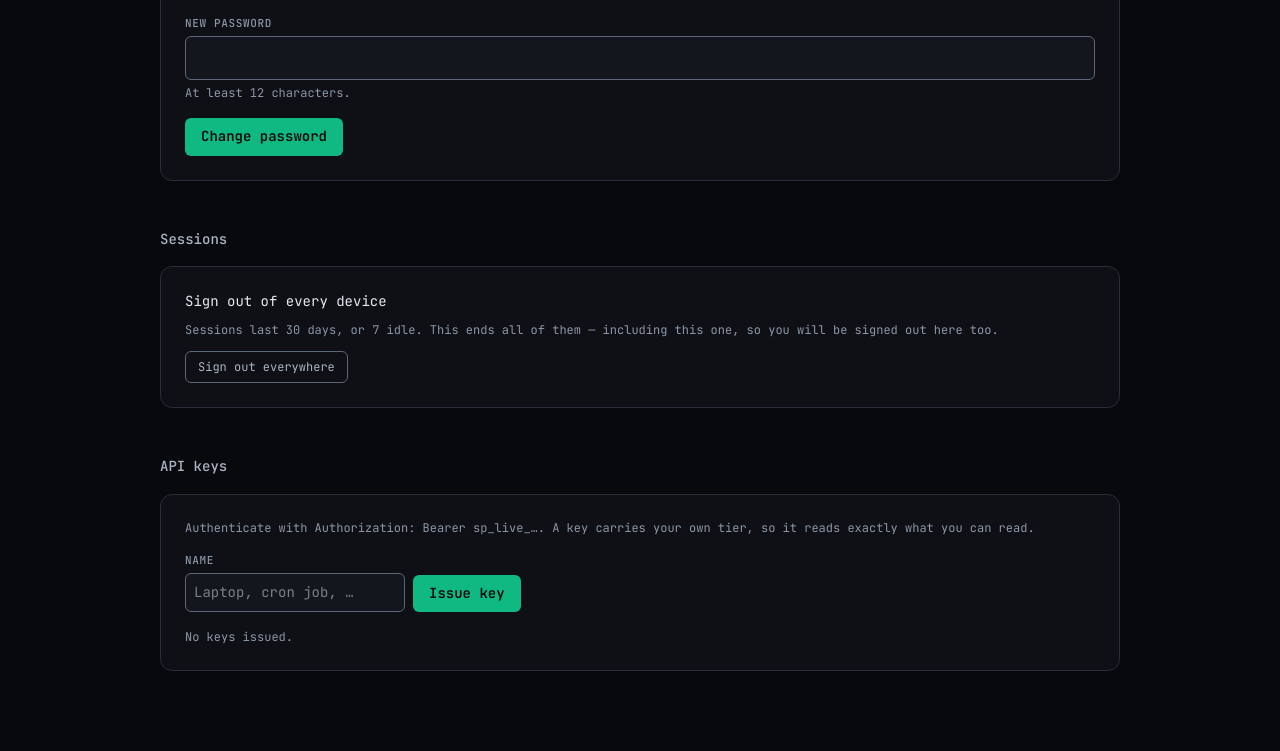
API keys › shows a new secret once and says it will not return
(page scrolled)
Type "Cron" into the field labelled "Name".
click(295, 592); type("Cron")  # box [185, 573, 405, 612]
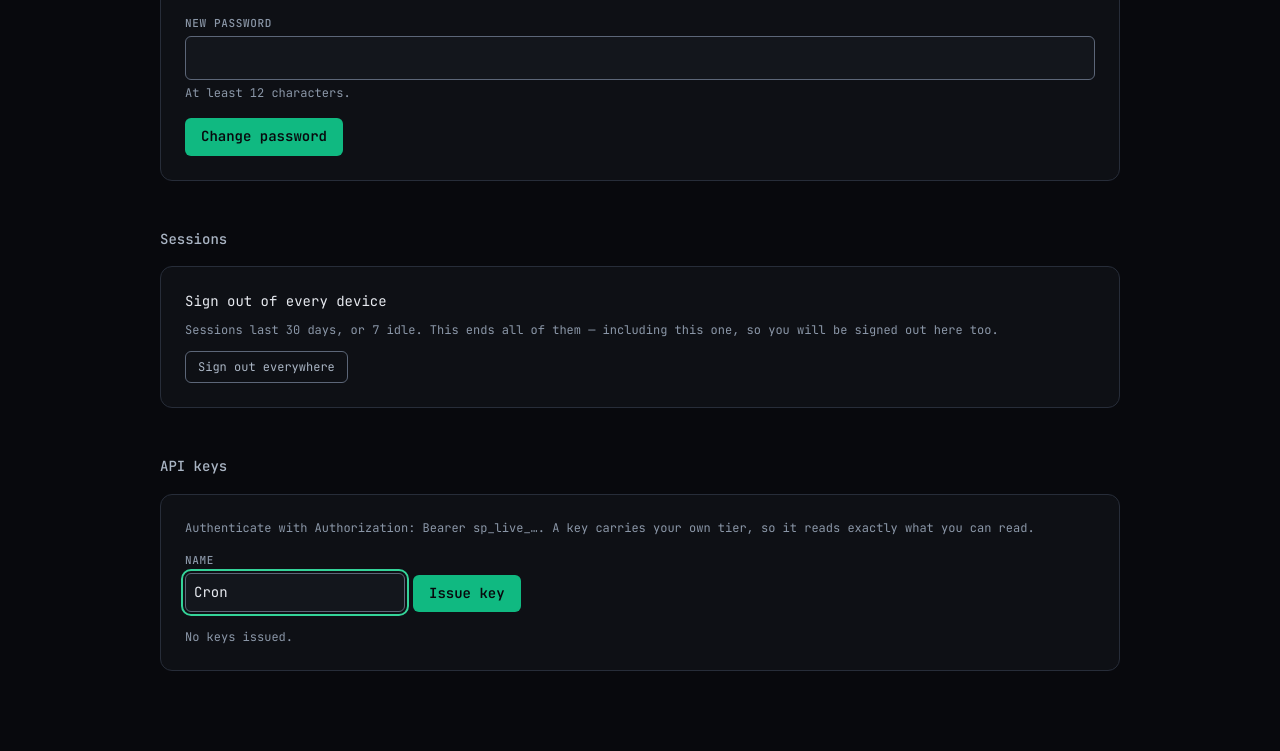
Click the button "Issue key".
click(467, 593)  # box [413, 575, 521, 612]
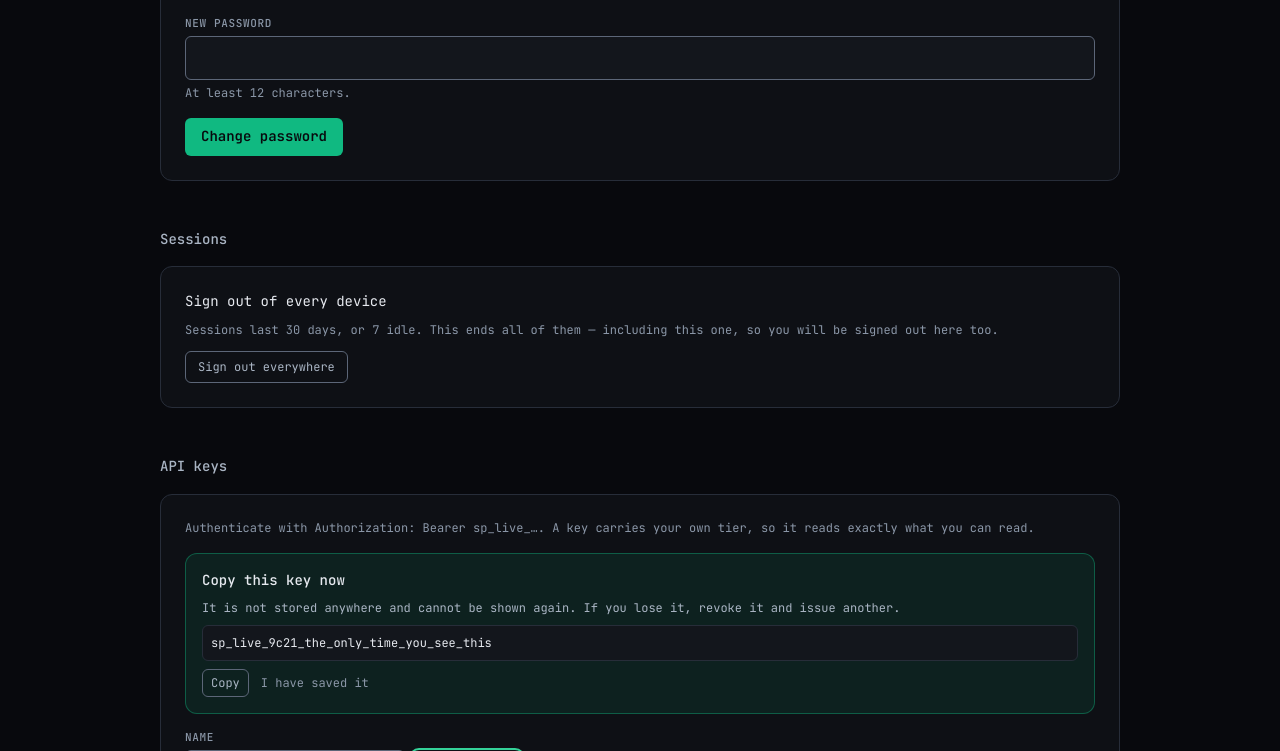
Now the text "sp_live_9c21_the_only_time_you_see_this" is shown, box [202, 625, 1078, 661]
Now the text "cannot be shown again" is shown, box [202, 600, 900, 616]
